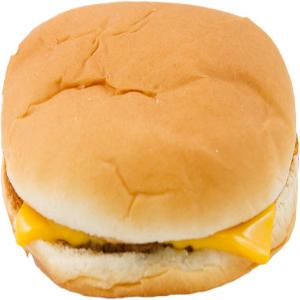cheeseburger_475cal: (1, 3, 300, 296)
